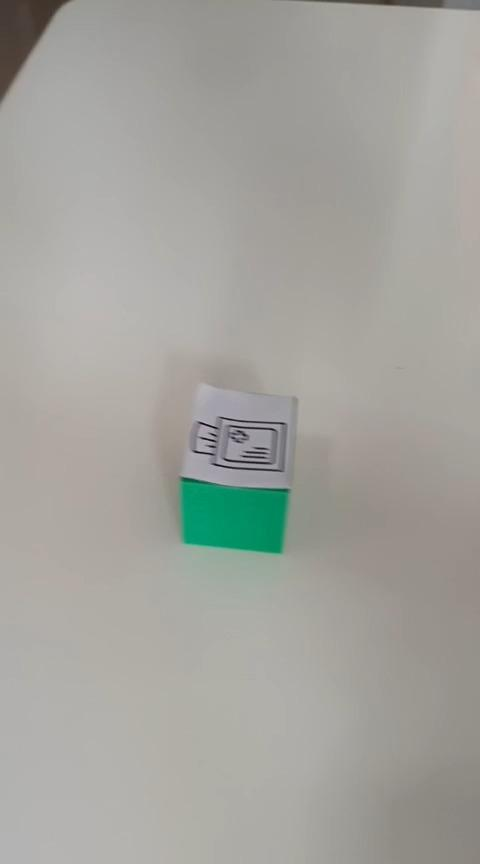Gauze: (177, 381, 298, 554)
